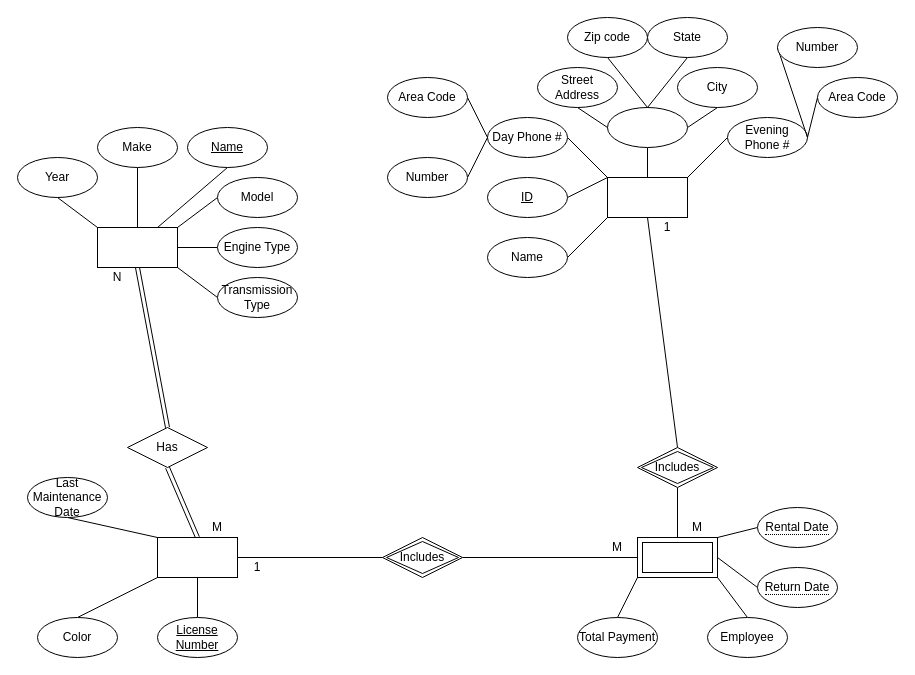
The diagram is 915 pixels wide and 675 high, and some of its shapes have lost their labels. Here are the shapes that lost their labels. From the top down, the box of each, then its label:
(606, 106, 688, 148): Address
(606, 176, 688, 218): Customer
(96, 226, 178, 268): Car Type
(156, 536, 238, 578): Car
(636, 536, 718, 578): Rental Record
